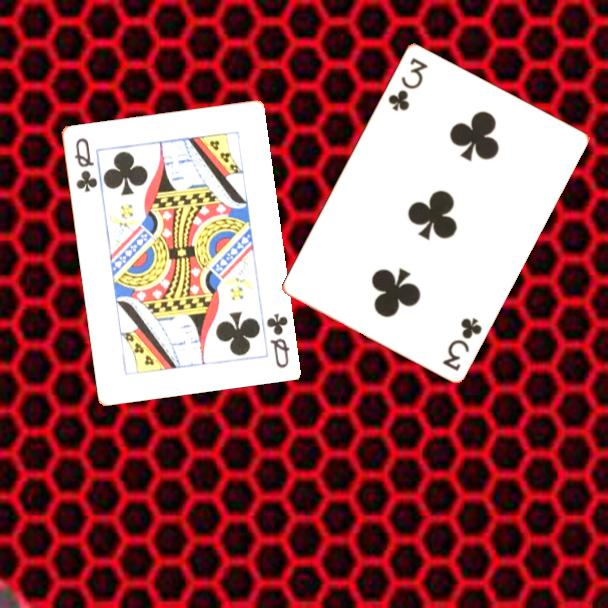c03: (384, 54, 431, 114), (439, 314, 485, 373)
c12: (70, 134, 100, 195), (263, 309, 292, 370)
